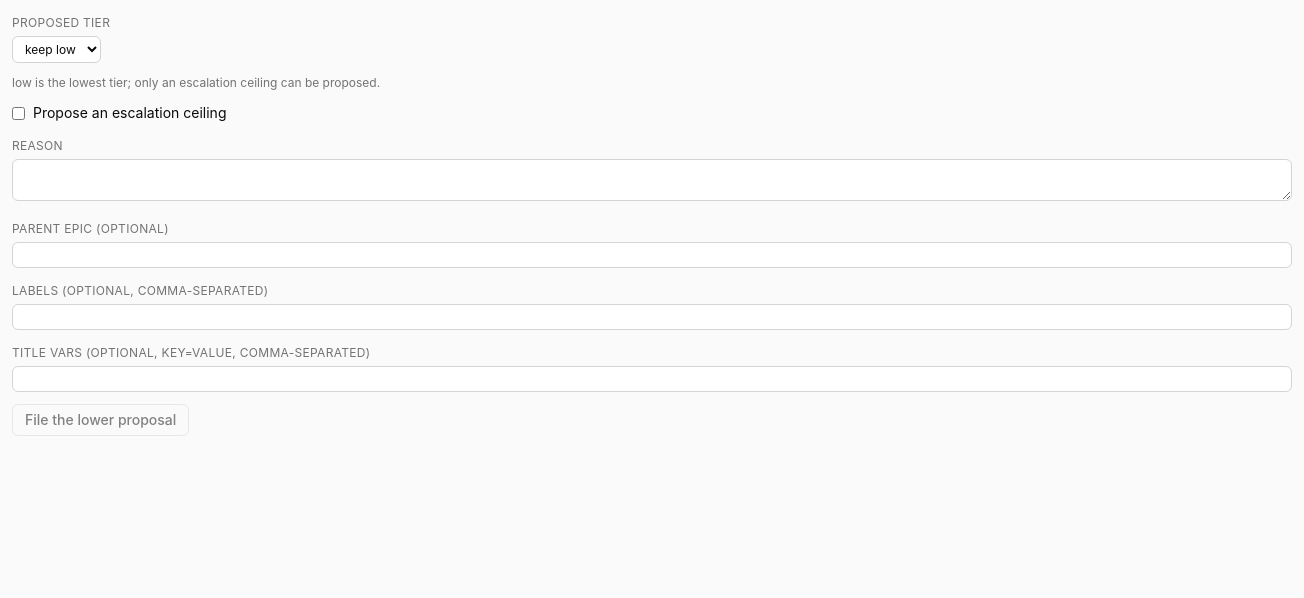
it: <DelegationLowerForm> escalation ceiling › files an escalation-only proposal with the exact body
In the text box labelled "Reason": (652, 180) [12,159,1292,201], type "migrations need a human"
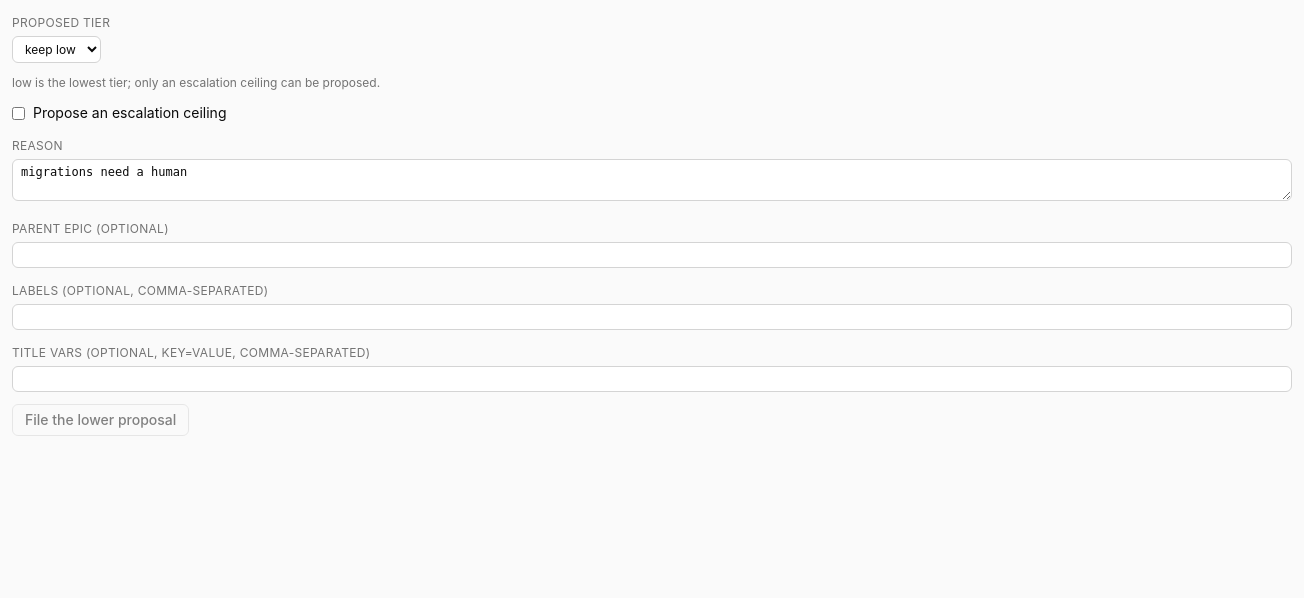
Click the checkbox labelled "Propose an escalation ceiling": (18, 113) [12,106,25,120]
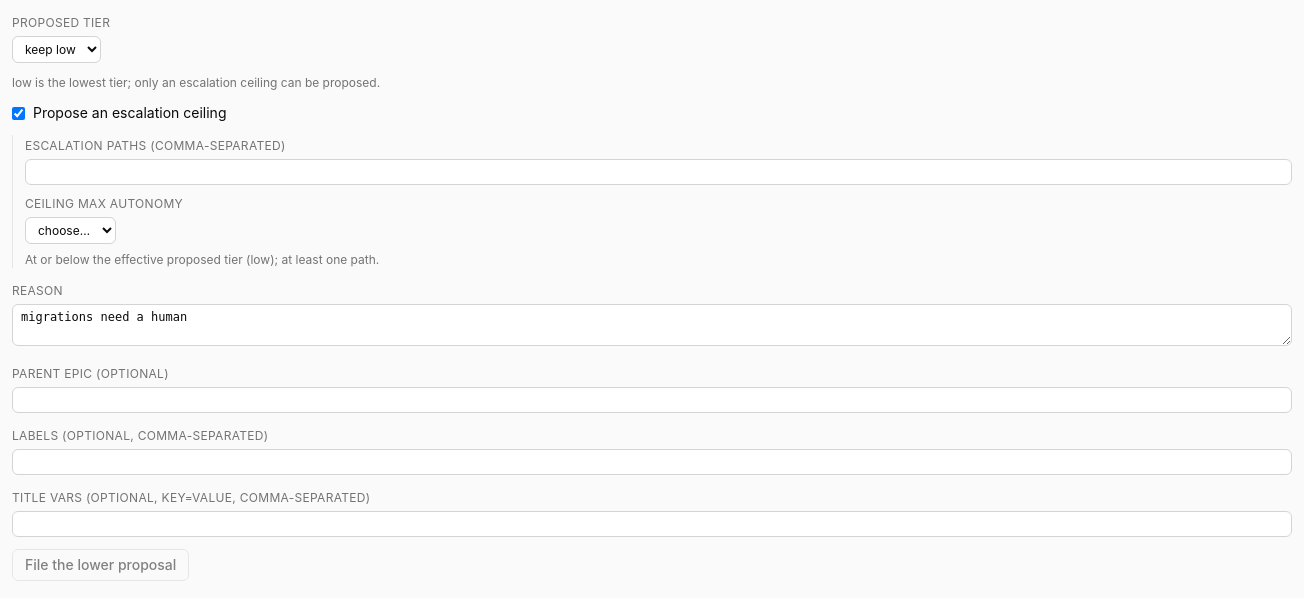
In the field labelled "Escalation paths (comma-separated)": (658, 172) [25,159,1292,185], type "db/migrations/**, deploy/**"
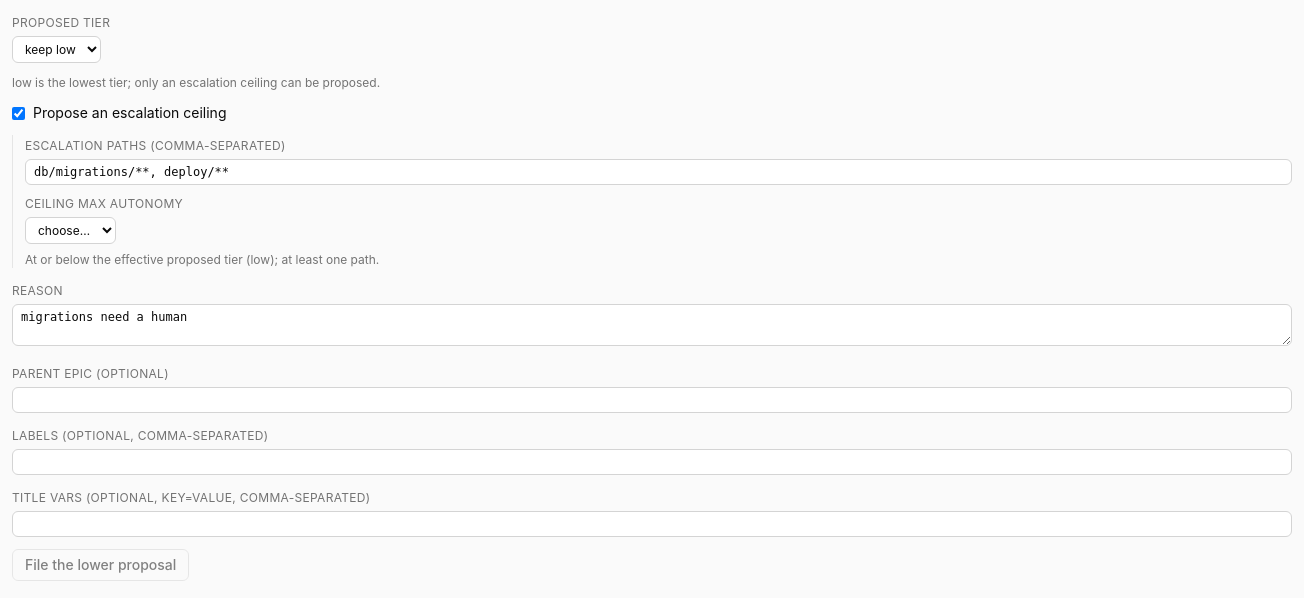
Select "low" in the dropdown labelled "Ceiling max autonomy": (70, 230) [25,217,116,244]
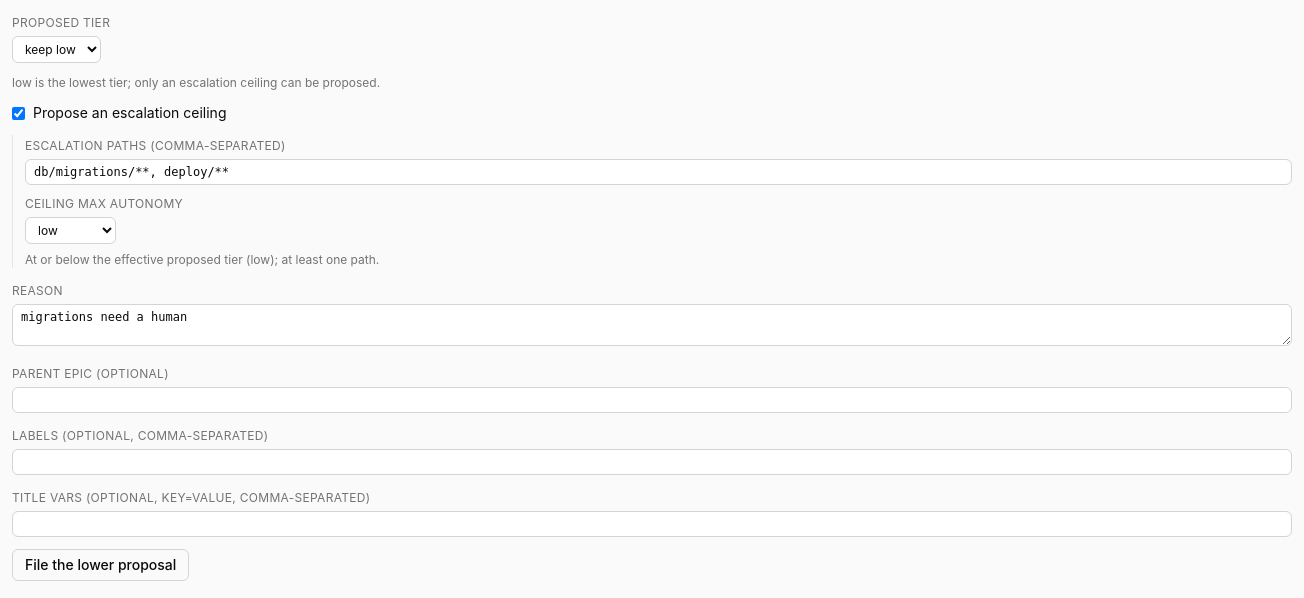
Click the button "File the lower proposal": (101, 565) [12,549,189,581]
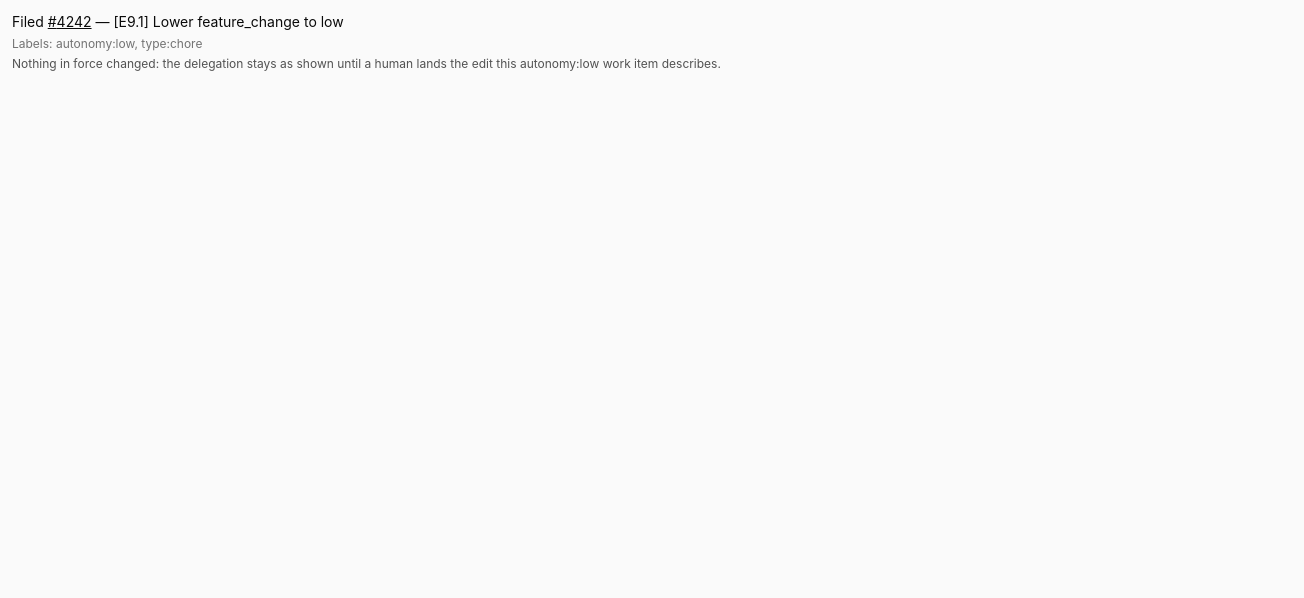
expect the message with test id "lower-filed-feature_change" is shown: met, box [12,13,721,71]
